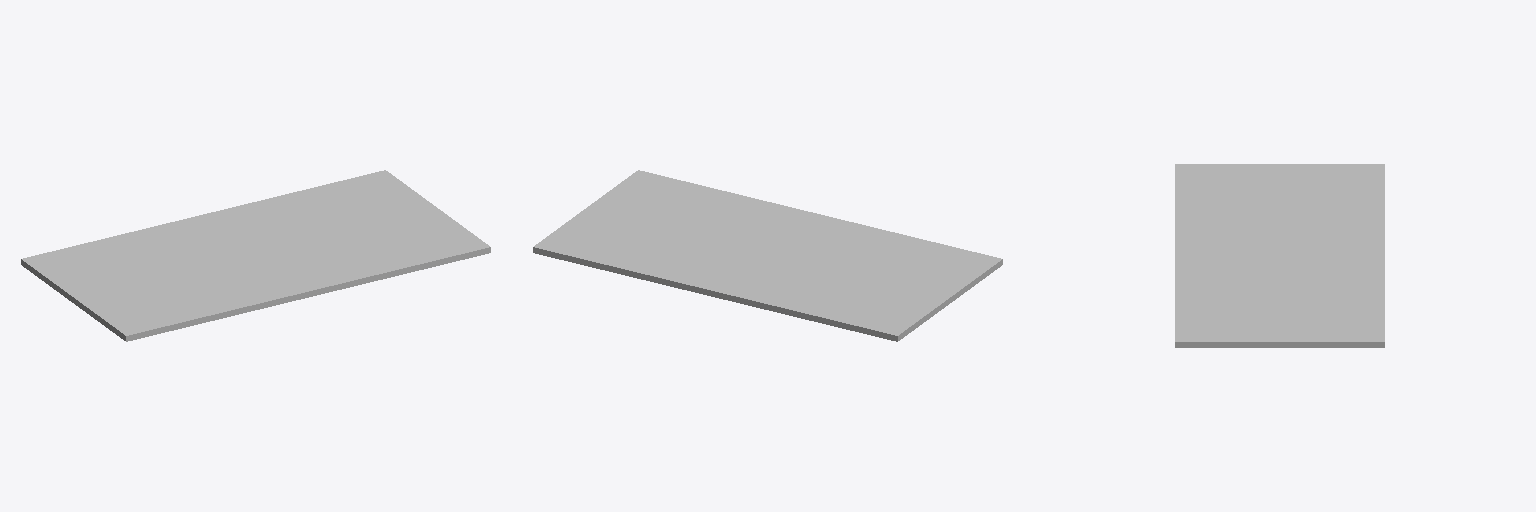
The model's file is Plate4_16x8.obj.
3 views of the same model, side by side, from view 1: azimuth 30°, elevation 25°; view 2: azimuth 150°, elevation 25°; view 3: azimuth 270°, elevation 25° (orthographic).
Parts seen in each view (by area): view 1: Plate4_16x8_Cube.367; view 2: Plate4_16x8_Cube.367; view 3: Plate4_16x8_Cube.367.
Boxes of the visible parts, box(x1,y1,x2,y2) form: Plate4_16x8_Cube.367: box(21, 170, 490, 341); Plate4_16x8_Cube.367: box(533, 170, 1002, 341); Plate4_16x8_Cube.367: box(1175, 164, 1384, 347).
Size of the model in its own units: 16 by 0.25 by 8.